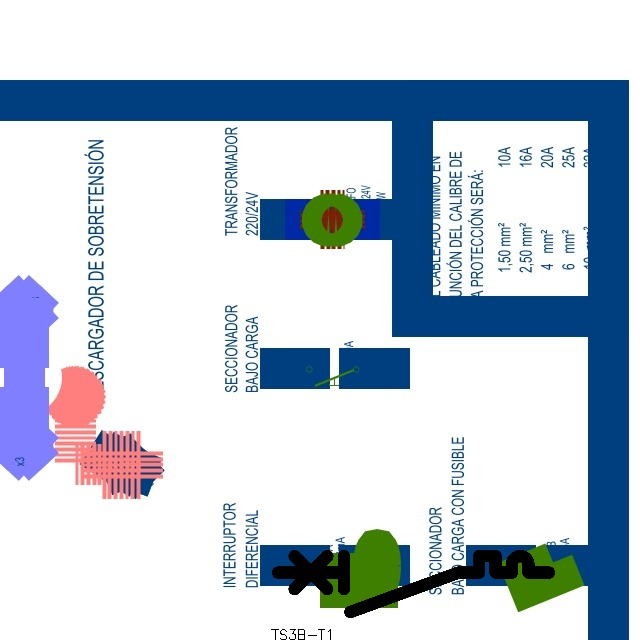interruptor_termomagnetico: (271, 549, 556, 619)
